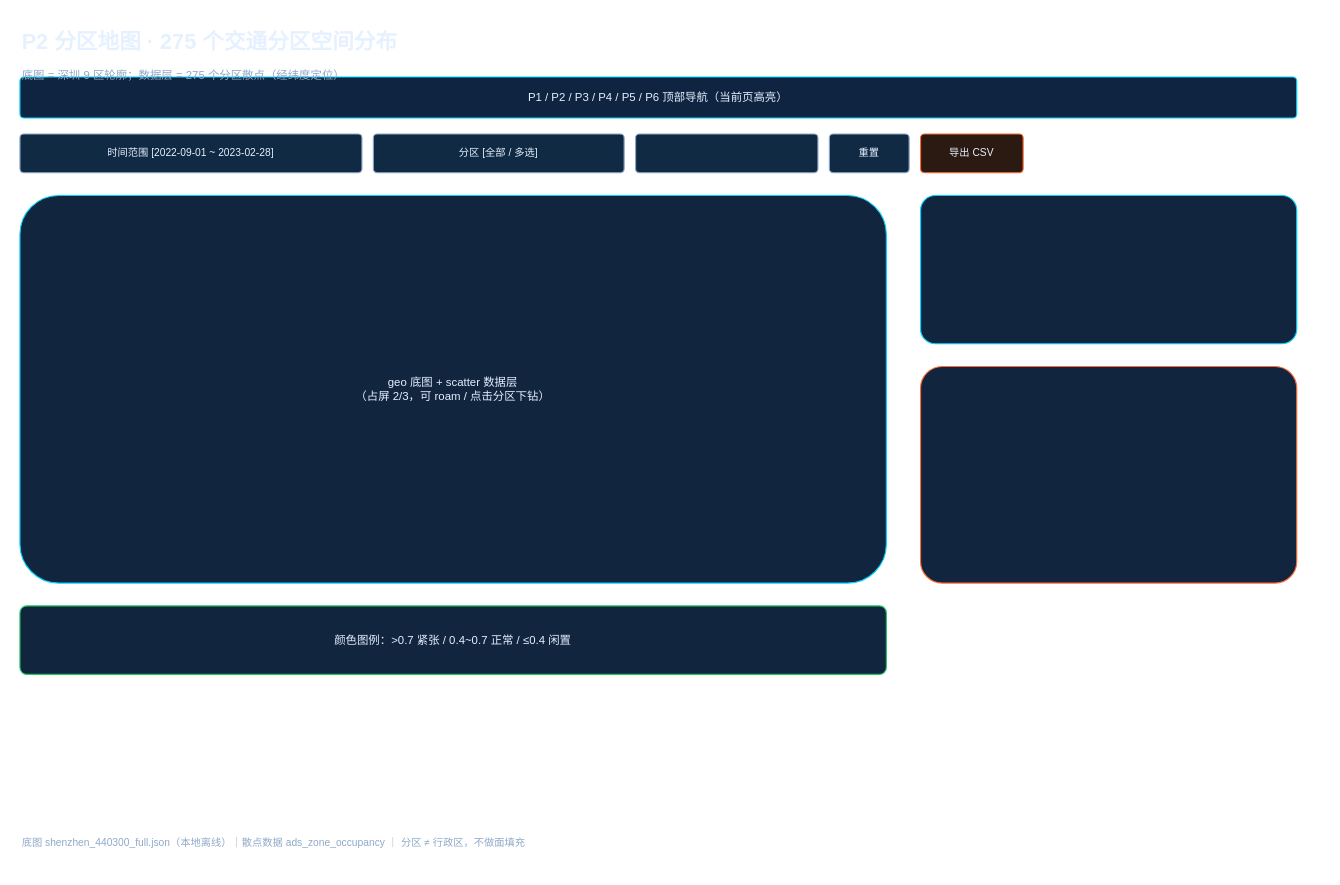
Some shapes in this 1340 by 885 pixel diagram are drawn without their labels. The shapes that lost their labels are listed below. From the top down, each one's centre as x and y in pixels, then its label:
At pixel 726 153: "小时 [0—23]".
At pixel 1108 269: "分区详情卡 zone_id / 占用率 / 桩数 / POI".
At pixel 1108 474: "紧张分区 TOP10 排行榜".
